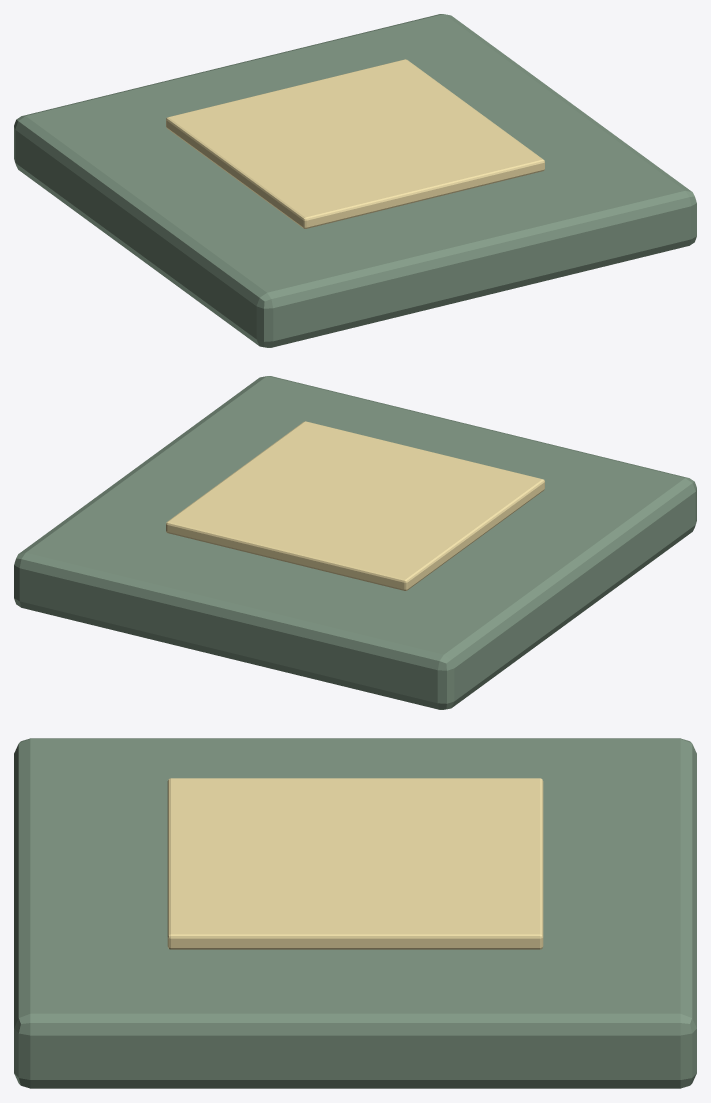
Rendered from habitat_marker.glb.
3 renders of one model, top to bottom at view 1: azimuth 30°, elevation 25°; view 2: azimuth 150°, elevation 25°; view 3: azimuth 270°, elevation 25°, orthographic. The views are drawn at different scales.
Parts seen in each view (by area): view 1: tile, marker; view 2: tile, marker; view 3: tile, marker.
Part boxes in pixels (bbox=[...]): tile: bbox=[14, 14, 696, 347]; marker: bbox=[166, 59, 544, 228]; tile: bbox=[14, 376, 696, 709]; marker: bbox=[166, 421, 544, 590]; tile: bbox=[14, 738, 696, 1088]; marker: bbox=[167, 778, 543, 949].
Size of the model in its own units: 1 by 0.1525 by 1.
